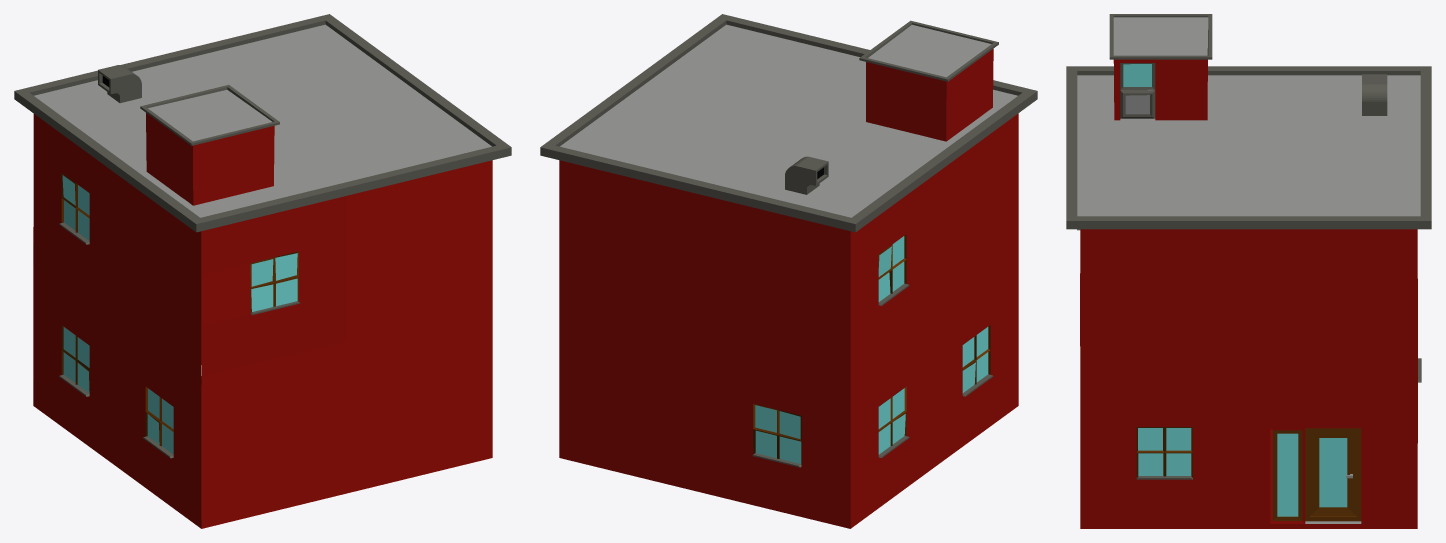
Rendered from house 1.fbx.
The picture shows the model from 3 angles, left to right: view 1: azimuth 30°, elevation 25°; view 2: azimuth 150°, elevation 25°; view 3: azimuth 270°, elevation 25°; orthographic projection.
Parts seen in each view (by area): view 1: House 1; view 2: House 1; view 3: House 1.
Boxes of the visible parts, box(x1,y1,x2,y2) form: House 1: box(14, 14, 511, 528); House 1: box(540, 14, 1037, 528); House 1: box(1066, 14, 1431, 528).
Bounding box in the file's own units: 217 × 245 × 217.
